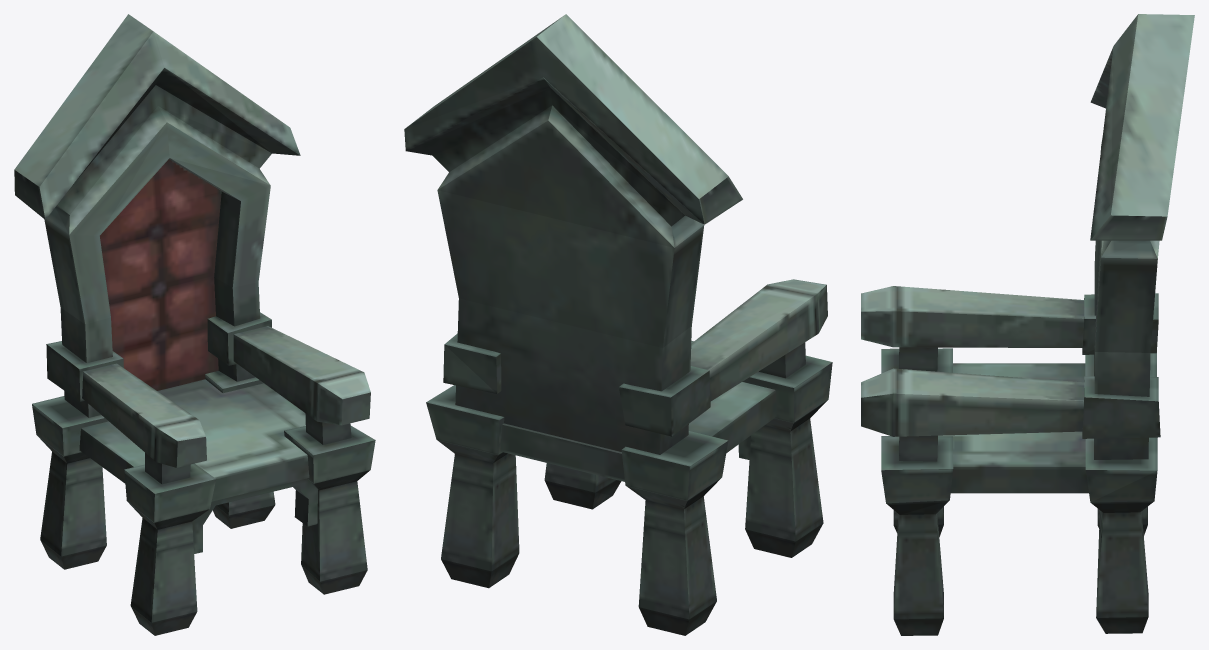
Rendered from crypt_chair01.fbx.
3 renders of one model, left to right at view 1: azimuth 30°, elevation 25°; view 2: azimuth 150°, elevation 25°; view 3: azimuth 270°, elevation 25°, orthographic. The views are drawn at different scales.
Parts seen in each view (by area): view 1: obj0.004; view 2: obj0.004; view 3: obj0.004.
Boxes of the visible parts, x1,y1,x2,y2 form: obj0.004: (14,14,375,635); obj0.004: (404,14,832,635); obj0.004: (861,14,1194,635).
Size of the model in its own units: 1.16 by 2.18 by 1.17.
